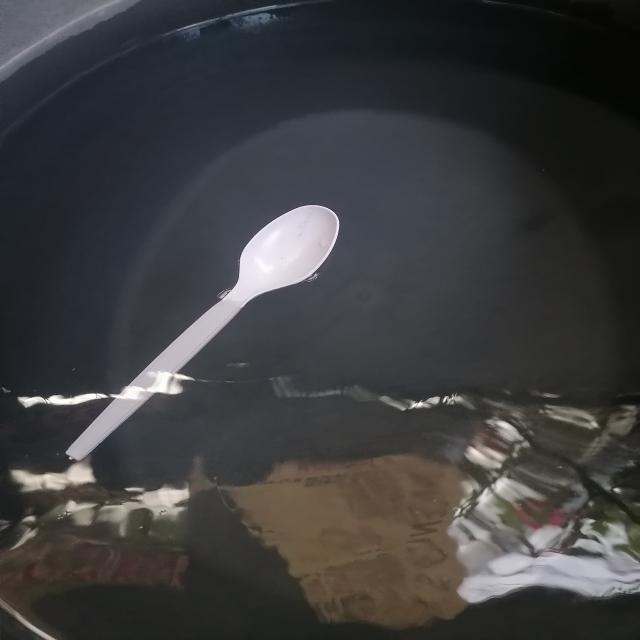Plastic Spoon: (66, 205, 339, 460)
